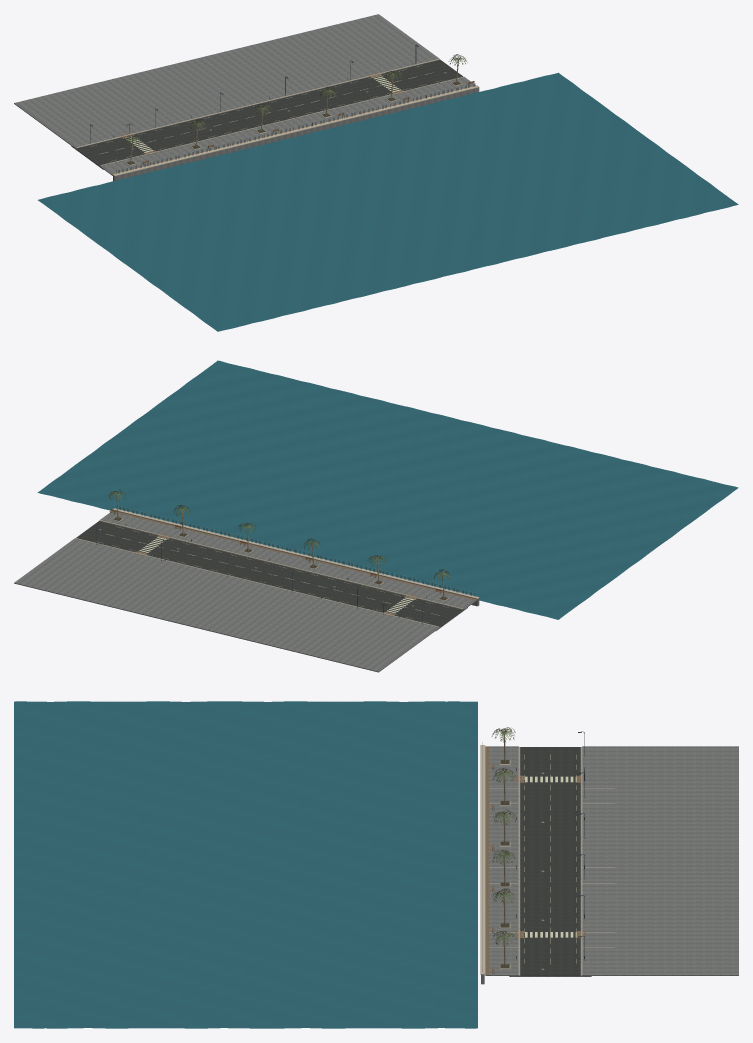
The model's file is coastal-infrastructure-v2.glb.
3 renders of one model, top to bottom at view 1: azimuth 30°, elevation 25°; view 2: azimuth 150°, elevation 25°; view 3: azimuth 270°, elevation 25°, orthographic. The views are drawn at different scales.
Parts seen in each view (by area): view 1: Coastal_Water, Concrete, Asphalt, Limestone, Powder_coated_aluminium, Road_paint, Pavement; view 2: Coastal_Water, Concrete, Asphalt, Limestone, Pavement, Powder_coated_aluminium, Road_paint; view 3: Coastal_Water, Concrete, Asphalt, Limestone, Pavement, Road_paint.
Part boxes in pixels (x1,y1,x2,y2): Coastal_Water: (38, 72, 738, 331); Concrete: (14, 14, 479, 181); Asphalt: (76, 59, 462, 165); Limestone: (76, 58, 478, 176); Powder_coated_aluminium: (100, 63, 474, 173); Road_paint: (92, 62, 439, 161); Pavement: (111, 72, 475, 175); Coastal_Water: (37, 360, 738, 619); Concrete: (14, 511, 479, 672); Asphalt: (76, 521, 463, 627); Limestone: (75, 508, 479, 626); Pavement: (112, 511, 476, 616); Powder_coated_aluminium: (99, 507, 474, 620); Road_paint: (97, 523, 445, 622); Coastal_Water: (14, 701, 477, 1028); Concrete: (481, 746, 738, 984); Asphalt: (520, 747, 580, 975); Limestone: (480, 745, 614, 975); Pavement: (485, 746, 585, 974); Road_paint: (516, 754, 584, 963).
Size of the model in its own units: 160 by 10.32 by 150.
Materials: 16 (4 with a texture image).
